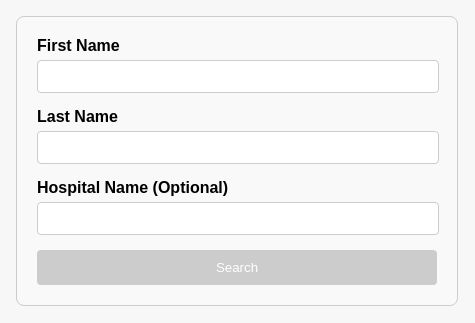
Scenario: SearchForm › should enable the search button when either firstName or lastName is non-empty
The width and height of the screenshot is (475, 323).
Type "John" into the field labelled "First Name".
click(238, 76); type("John")  # box [37,60,439,93]
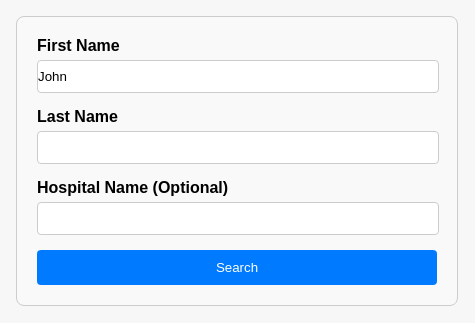
Result: the button "Search" is enabled at [37,250,437,285]
